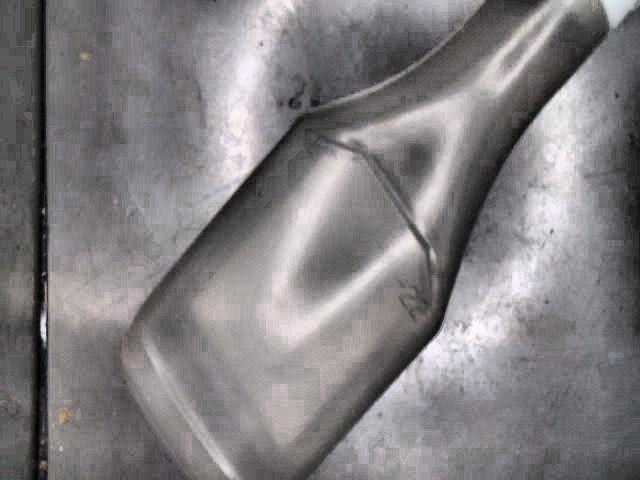Plastic: (118, 0, 640, 480)
